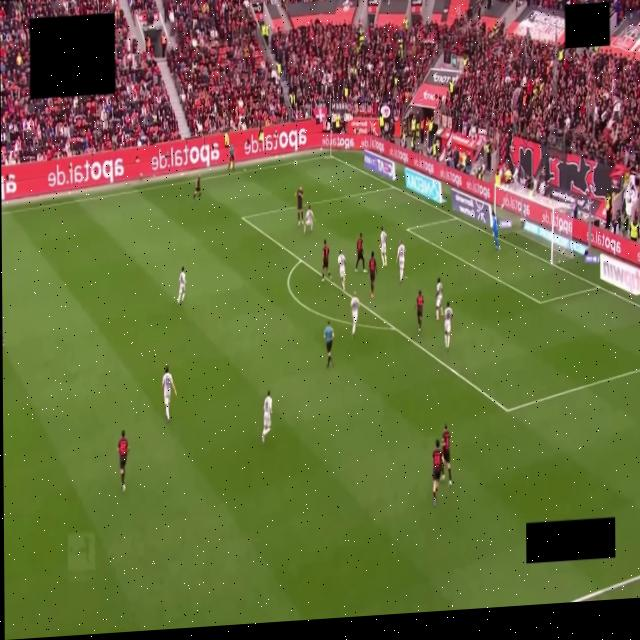ball: (293, 160, 296, 164)
player: (162, 365, 176, 422), (432, 440, 442, 506), (117, 431, 128, 491), (441, 425, 451, 487), (261, 390, 271, 442), (355, 233, 365, 272), (444, 302, 452, 350), (321, 241, 330, 282), (368, 251, 376, 297), (350, 293, 358, 337), (435, 278, 443, 321), (491, 210, 499, 251), (379, 227, 387, 267), (295, 187, 303, 226), (397, 240, 404, 284), (415, 290, 422, 333), (177, 267, 185, 304), (337, 250, 344, 289), (304, 205, 313, 233), (193, 176, 201, 200)
referee: (324, 321, 333, 368)
